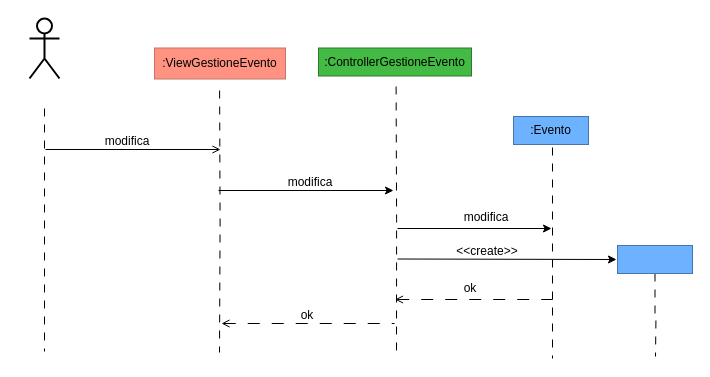
This 710x377 diagram has some shape labels left out. Here are the shapes that lost their labels. From the top down, the centre of each, then its label:
(x=44, y=48): Utente
(x=654, y=259): :voceDiLog
